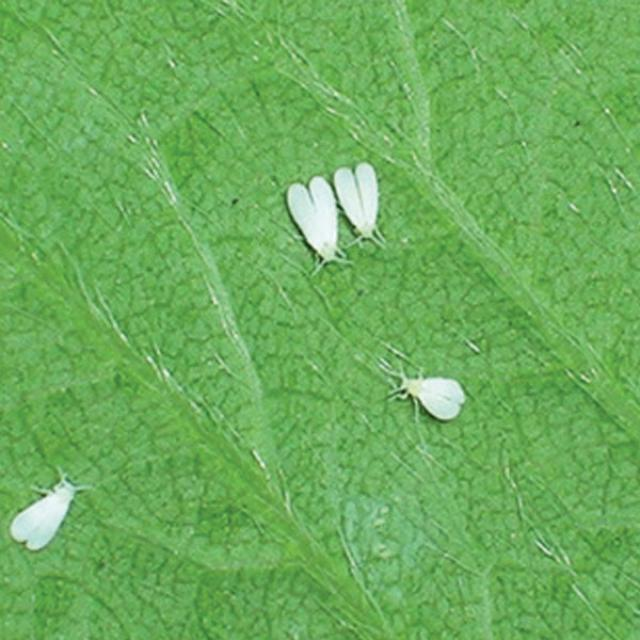Whitefly: (282, 156, 406, 282), (0, 466, 94, 562), (373, 359, 492, 430)
